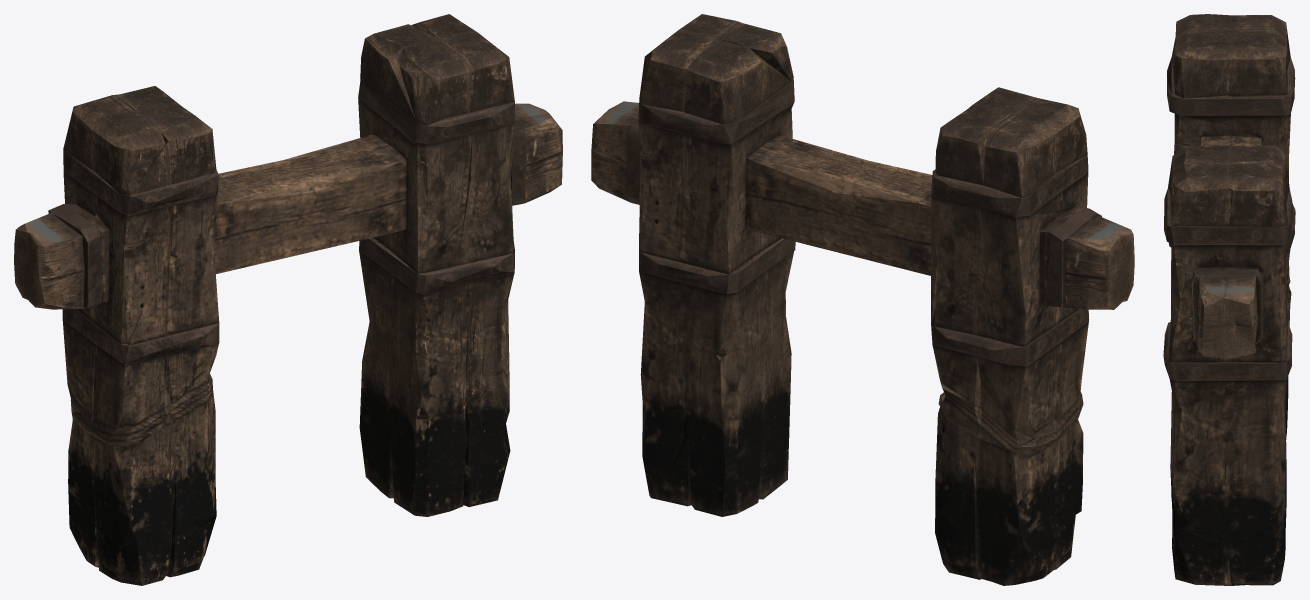
Rendered from bitts.glb.
The picture shows the model from 3 angles, left to right: view 1: azimuth 30°, elevation 25°; view 2: azimuth 150°, elevation 25°; view 3: azimuth 270°, elevation 25°; orthographic projection. The views are drawn at different scales.
Visible parts, largest first — view 1: Mesh_0; view 2: Mesh_0; view 3: Mesh_0.
Part boxes in pixels (<box>): Mesh_0: <box>14,14,562,585</box>; Mesh_0: <box>591,14,1134,585</box>; Mesh_0: <box>1163,14,1295,585</box>.
Size of the model in its own units: 1.68 by 1.4 by 0.4084.
Materials: 1 (1 with a texture image).
